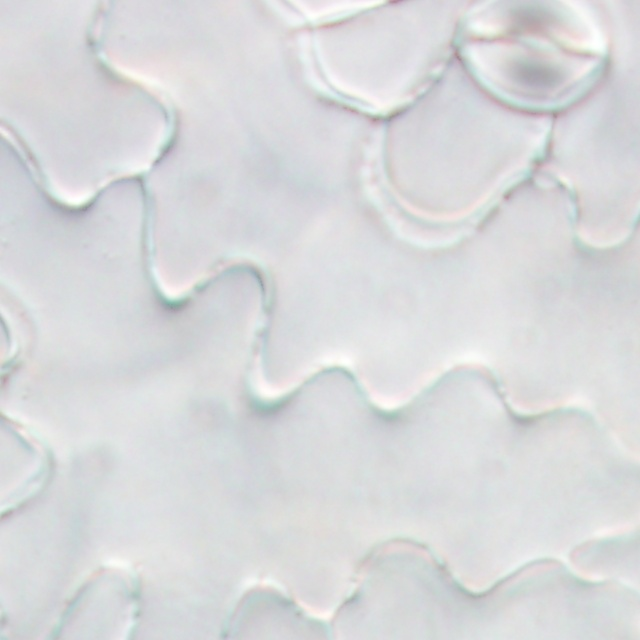center: (496, 20, 573, 66), (293, 12, 349, 16)
stomata-huw1: (455, 1, 611, 113), (258, 1, 384, 27)
